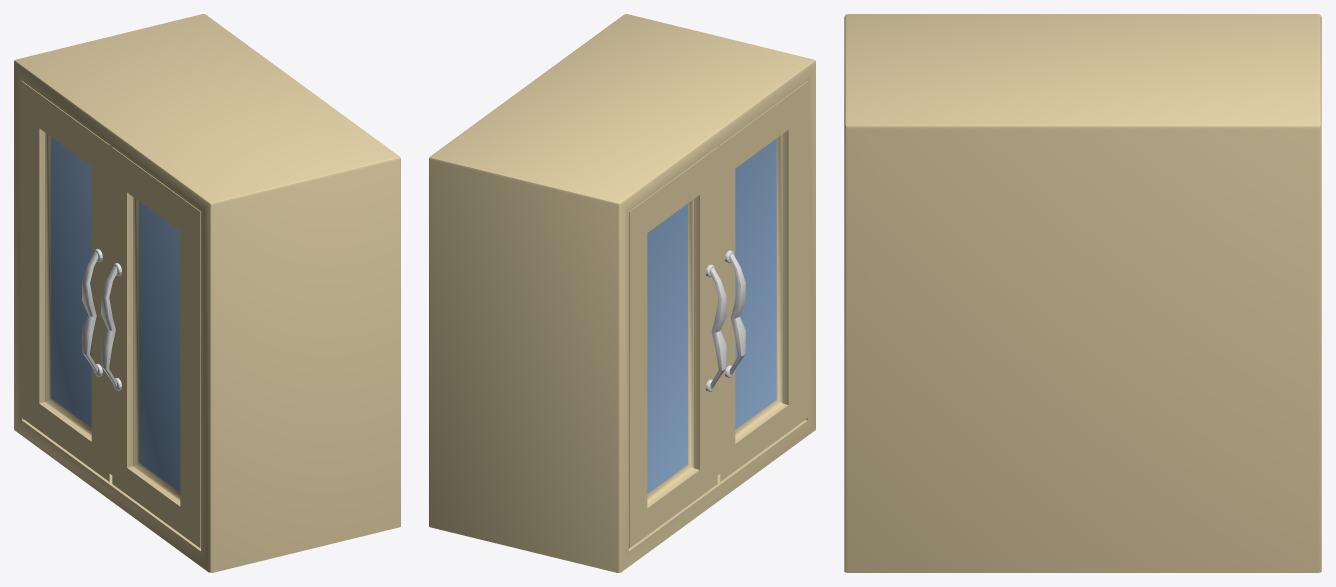
File: TopShelfUnit.fbx
The picture shows the model from 3 angles, left to right: view 1: azimuth 30°, elevation 25°; view 2: azimuth 150°, elevation 25°; view 3: azimuth 270°, elevation 25°; orthographic projection. The views are drawn at different scales.
Visible parts, largest first — view 1: smLowerShelfHandleBottom.002; view 2: smLowerShelfHandleBottom.002; view 3: smLowerShelfHandleBottom.002.
Part boxes in pixels (bbox=[...]): smLowerShelfHandleBottom.002: bbox=[14, 14, 400, 572]; smLowerShelfHandleBottom.002: bbox=[429, 14, 815, 572]; smLowerShelfHandleBottom.002: bbox=[844, 14, 1321, 572].
Bounding box in the file's own units: 0.3729 × 0.6308 × 0.6101.
